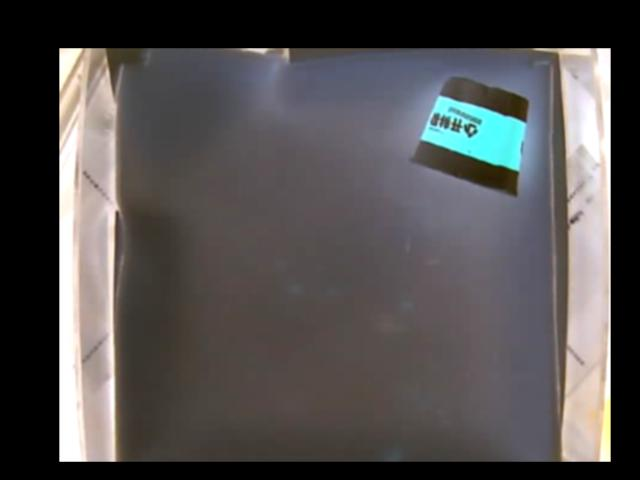Cup: (416, 74, 531, 197)
